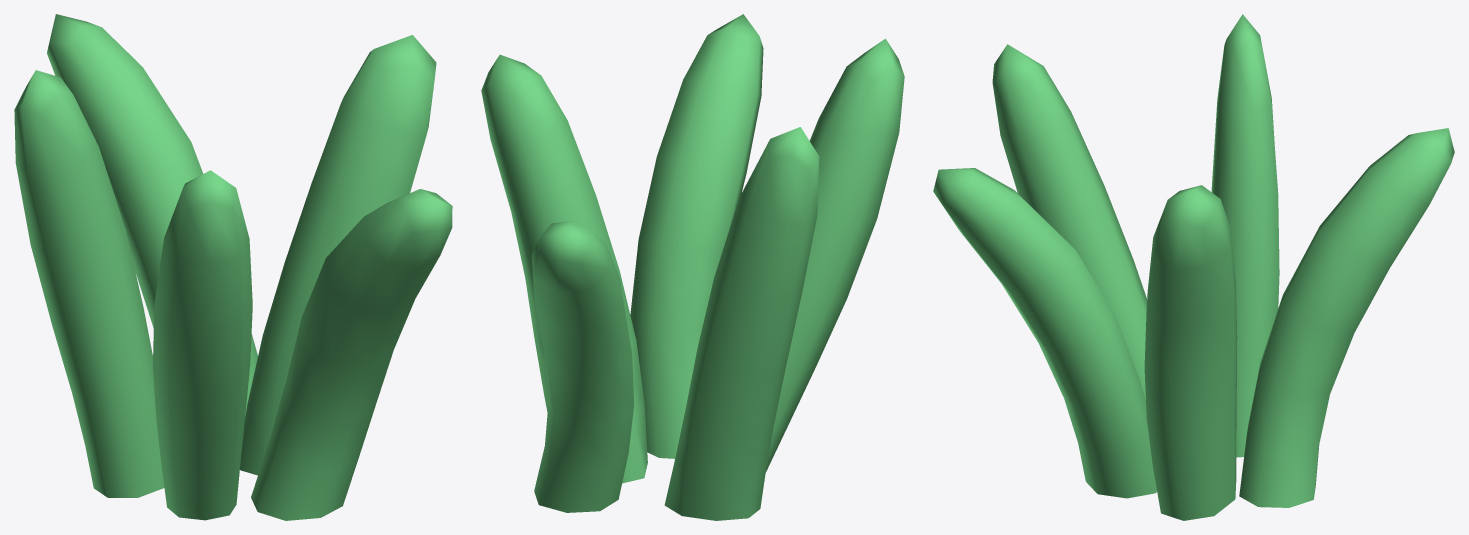
File: Grass_A_05.fbx
3 views of the same model, side by side, from view 1: azimuth 30°, elevation 25°; view 2: azimuth 150°, elevation 25°; view 3: azimuth 270°, elevation 25° (orthographic). The views are drawn at different scales.
Parts seen in each view (by area): view 1: Grass_A_05_LOD0; view 2: Grass_A_05_LOD0; view 3: Grass_A_05_LOD0.
Boxes of the visible parts, x1,y1,x2,y2 form: Grass_A_05_LOD0: [14, 14, 452, 520]; Grass_A_05_LOD0: [481, 14, 904, 520]; Grass_A_05_LOD0: [933, 14, 1454, 520].
Size of what is drawn, in the model's own units: 293 by 315 by 389.
